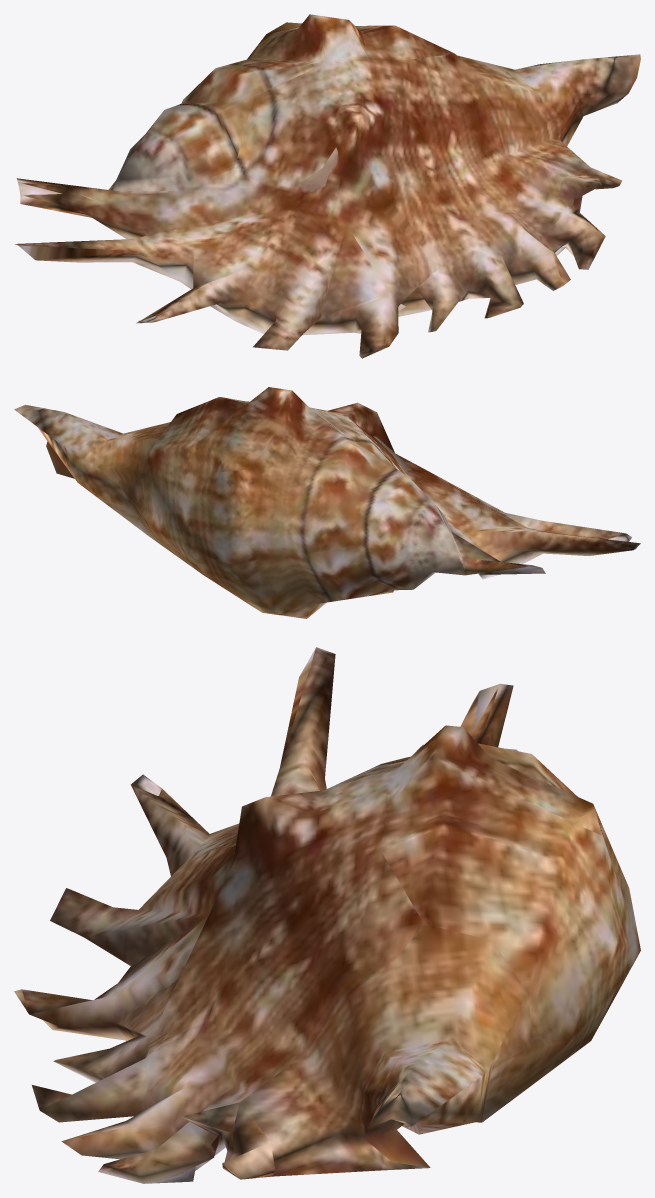
File: lambis_shell.glb
The picture shows the model from 3 angles, top to bottom: view 1: azimuth 30°, elevation 25°; view 2: azimuth 150°, elevation 25°; view 3: azimuth 270°, elevation 25°; orthographic projection. The views are drawn at different scales.
Visible parts, largest first — view 1: lambis_shell; view 2: lambis_shell; view 3: lambis_shell.
Boxes of the visible parts, x1,y1,x2,y2 form: lambis_shell: [15, 14, 640, 358]; lambis_shell: [14, 387, 640, 618]; lambis_shell: [14, 647, 640, 1183].
Size of the model in its own units: 0.1387 by 0.0456 by 0.0744.
Materials: 1 (1 with a texture image).
